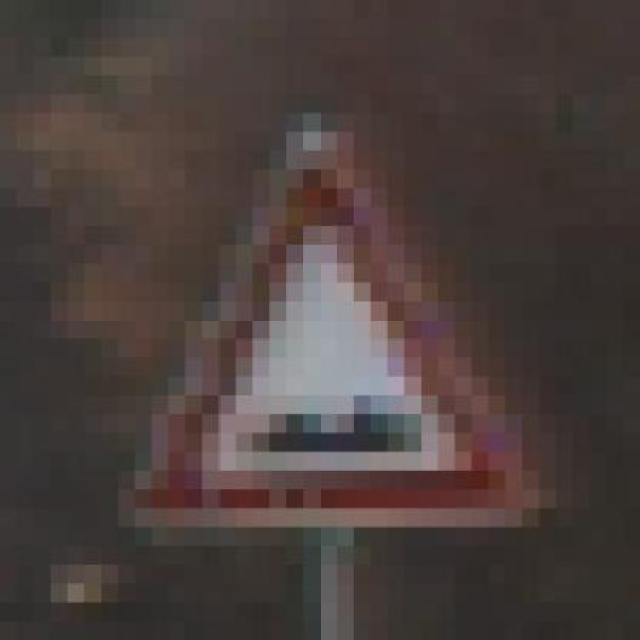Uneven Road: (135, 94, 539, 546)
